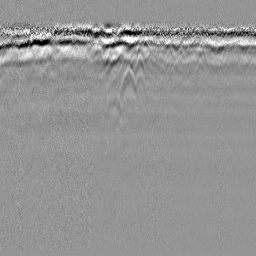cavity: (118, 63, 136, 98)
